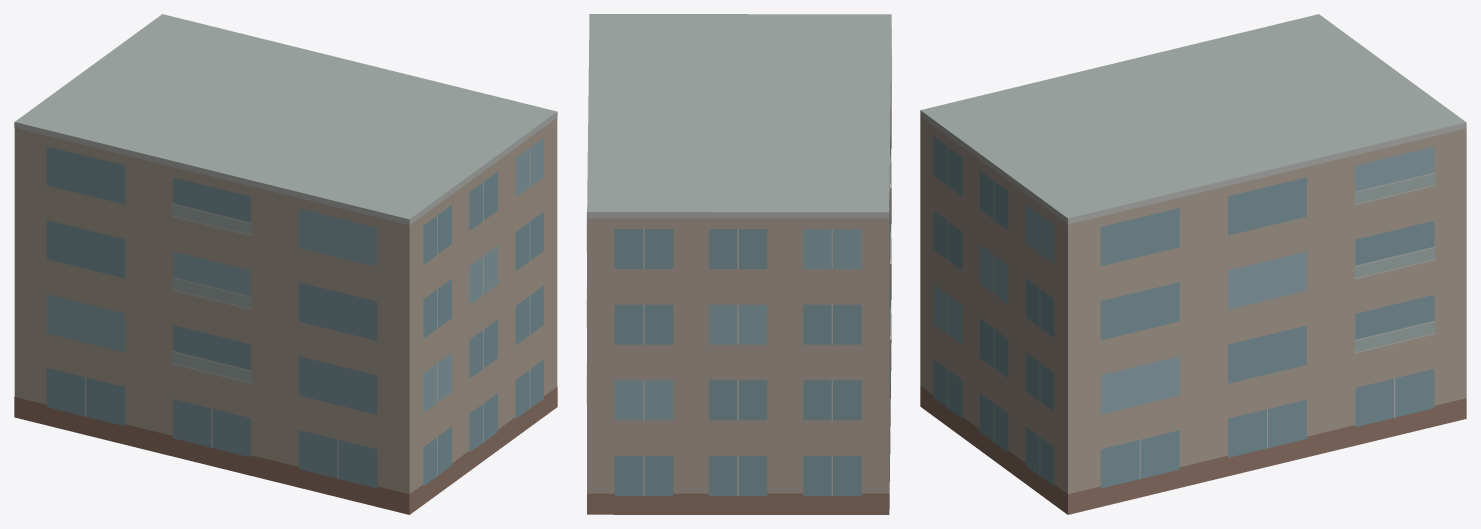
File: survey-upis-32864314.glb
3 renders of one model, left to right at view 1: azimuth 30°, elevation 25°; view 2: azimuth 150°, elevation 25°; view 3: azimuth 270°, elevation 25°, orthographic. The views are drawn at different scales.
Visible parts, largest first — view 1: survey-upis-32864314.tmp; view 2: survey-upis-32864314.tmp; view 3: survey-upis-32864314.tmp.
Part boxes in pixels (x1,y1,x2,y2): survey-upis-32864314.tmp: (14,14,557,514); survey-upis-32864314.tmp: (586,14,891,514); survey-upis-32864314.tmp: (920,14,1466,514).
Size of the model in its own units: 17.77 by 12 by 20.05.
